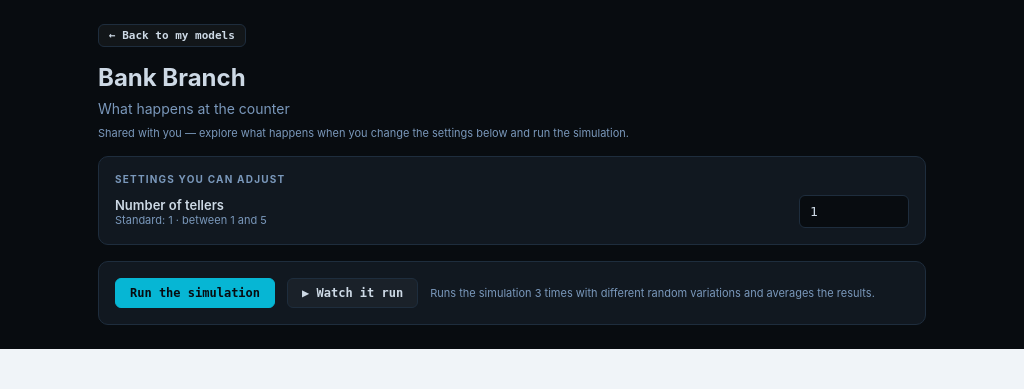
StakeholderView › surfaces a friendly error when the run fails
Click the button "Run the simulation".
click(195, 293)  # box x1=115 y1=278 x2=275 y2=308
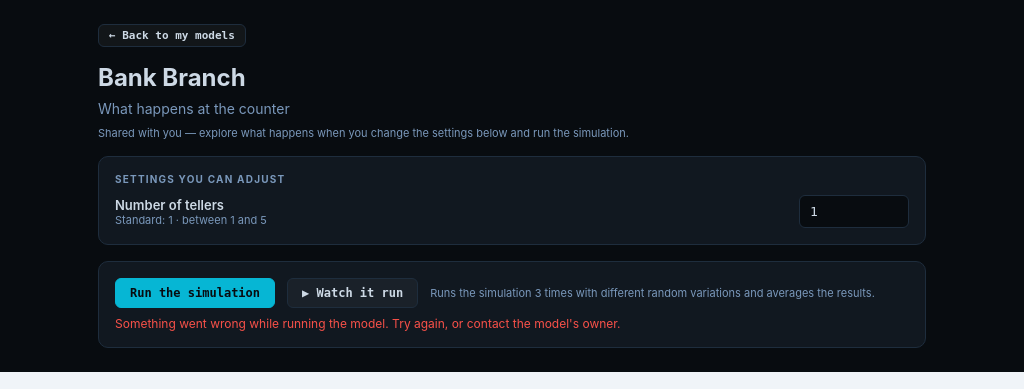
Check: the text "Something went wrong while running the model" is shown, box x1=115 y1=316 x2=620 y2=331
